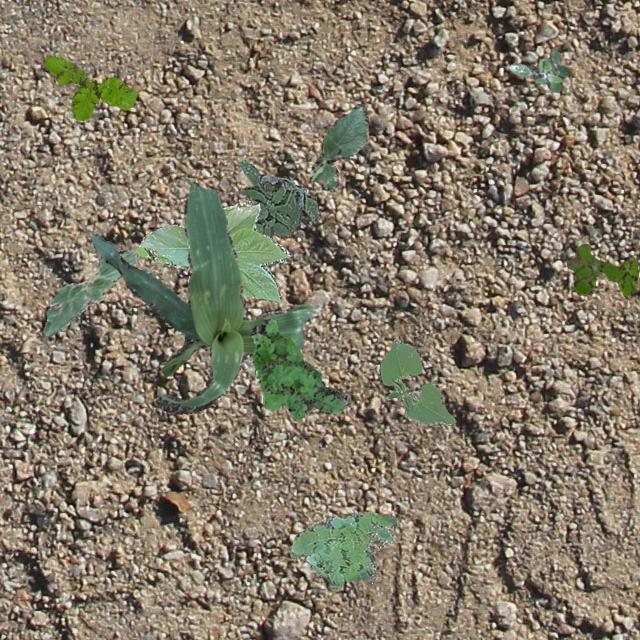crop: (90, 178, 312, 412), (136, 200, 288, 300), (44, 248, 140, 336), (378, 338, 454, 424), (310, 102, 368, 190)
weed: (250, 317, 350, 418), (290, 510, 396, 590), (238, 158, 318, 238), (42, 53, 136, 119), (566, 242, 638, 294), (508, 48, 568, 92)
